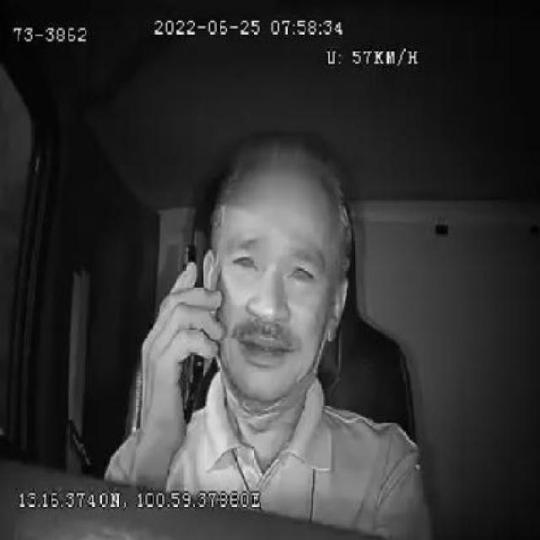phone: (174, 239, 208, 429)
